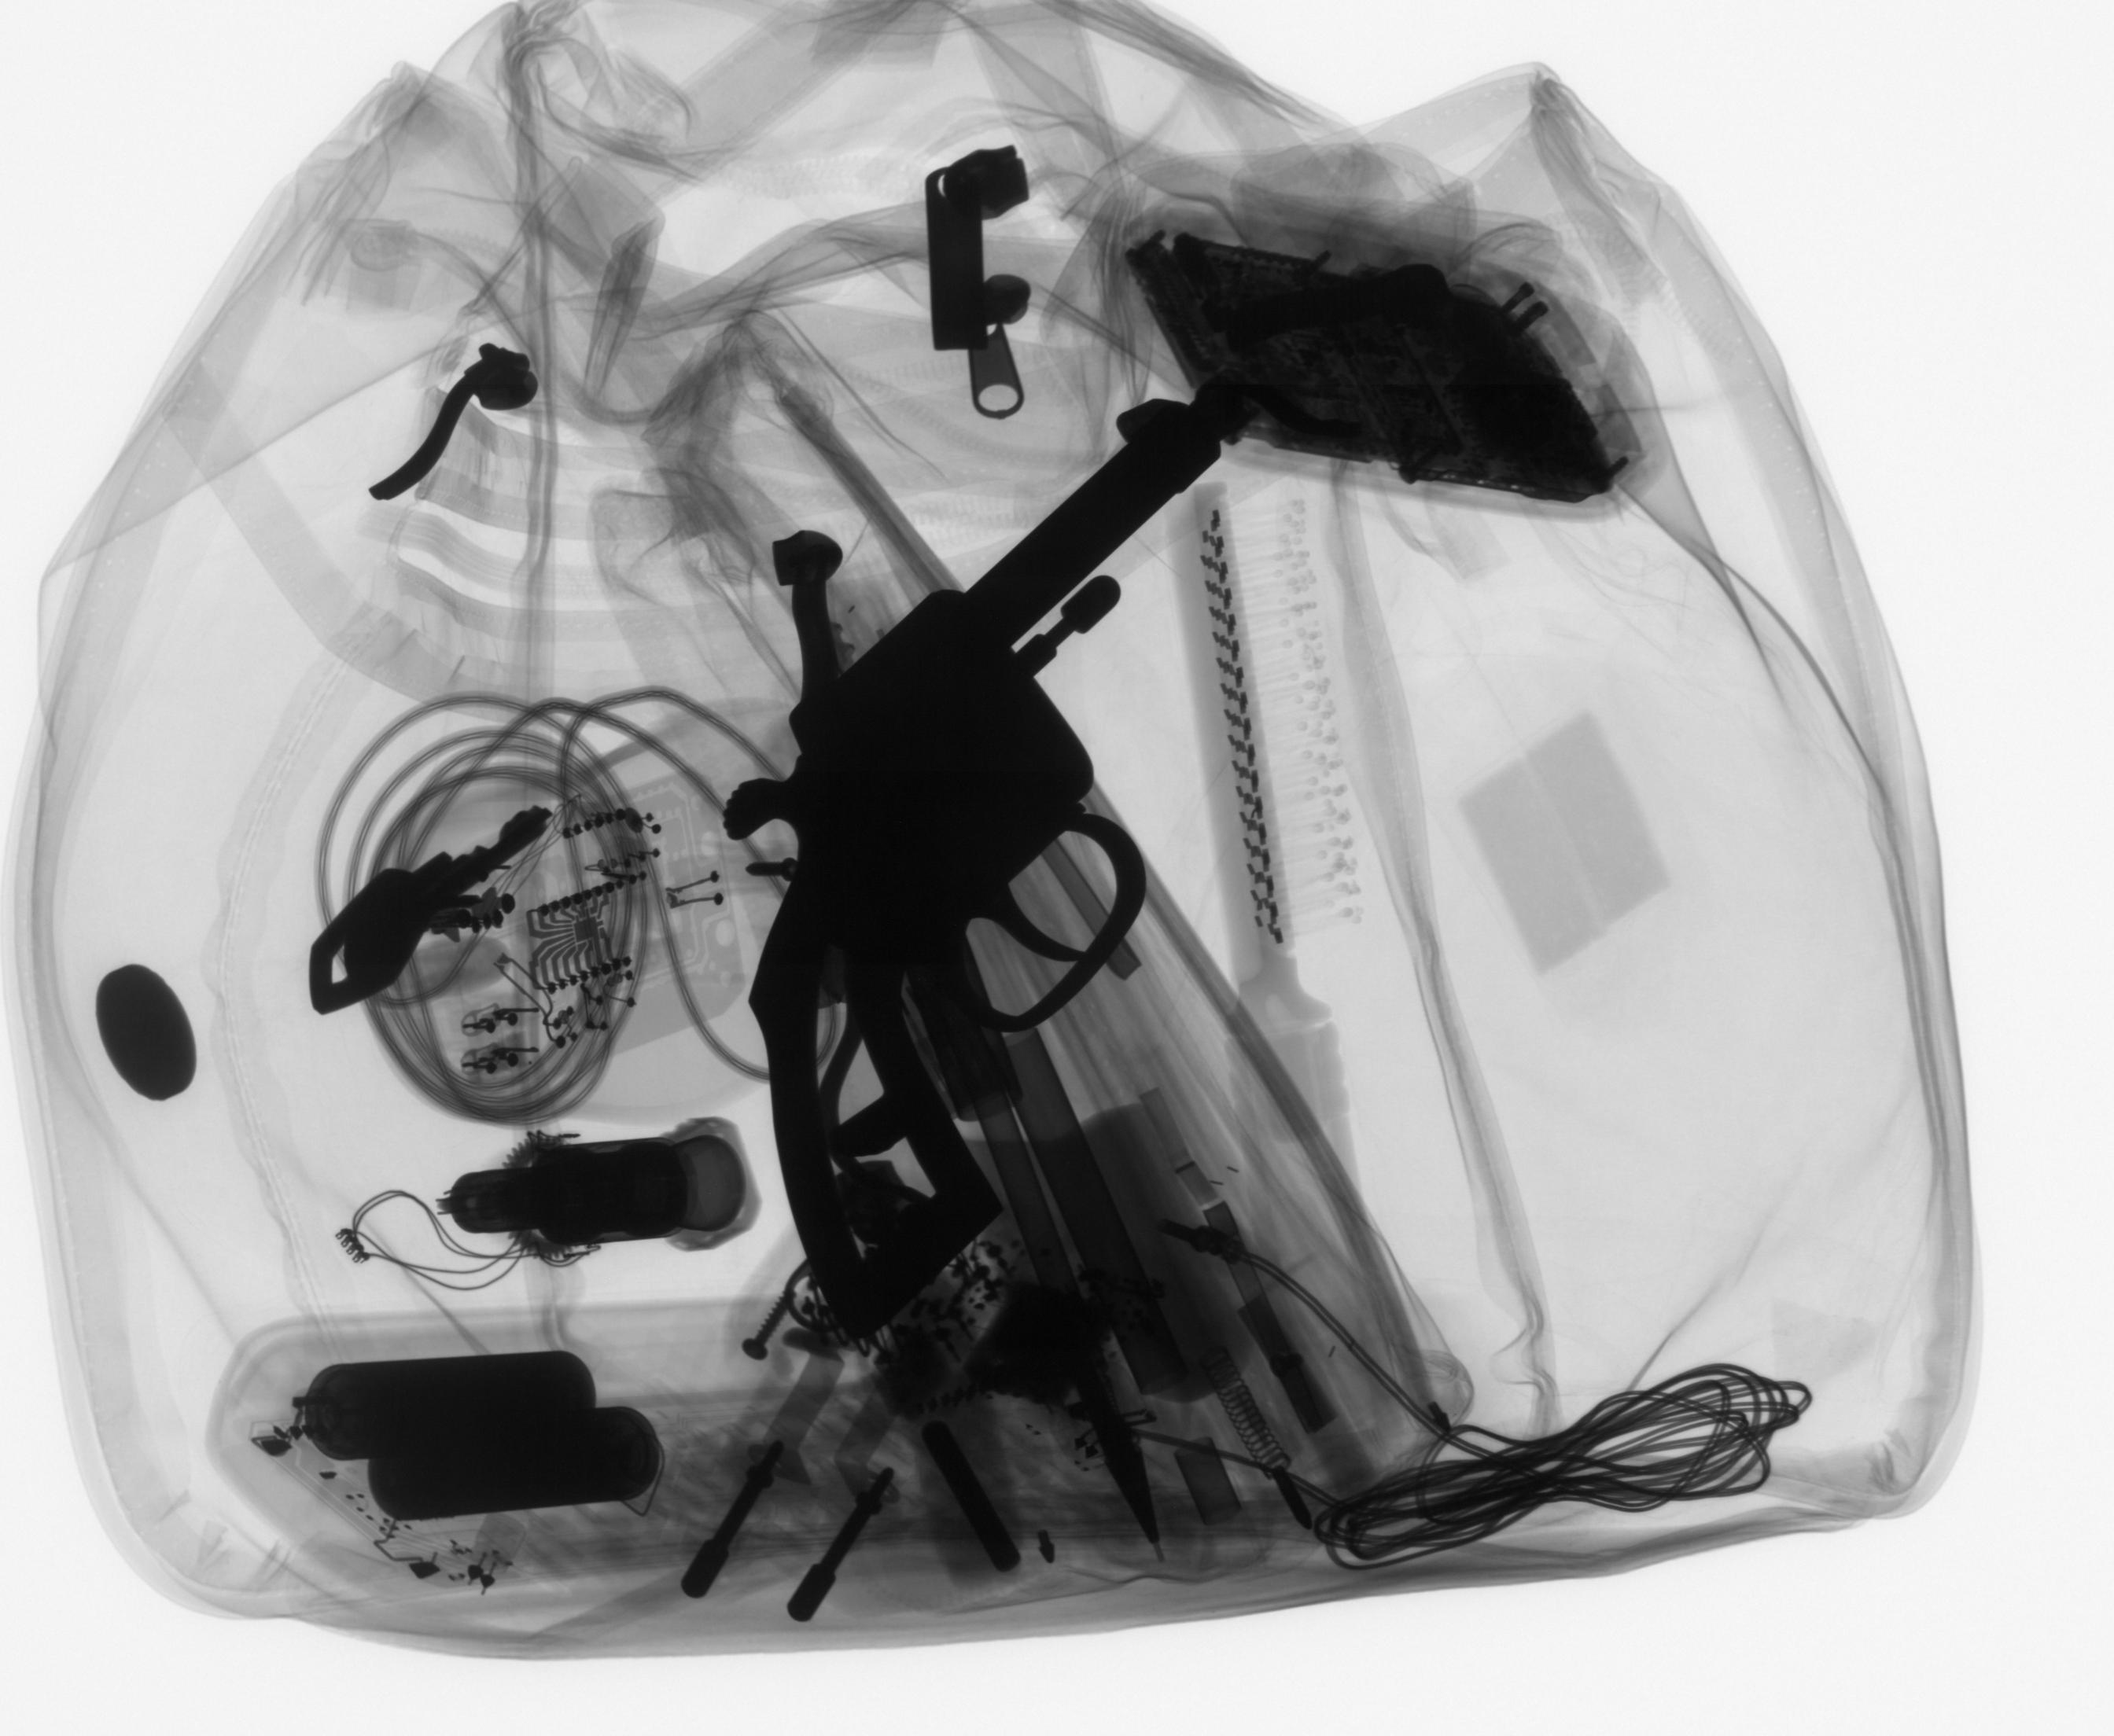Handgun: (713, 390, 1264, 1355)
